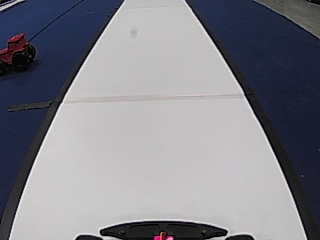Tracktor: (0, 29, 37, 72)
